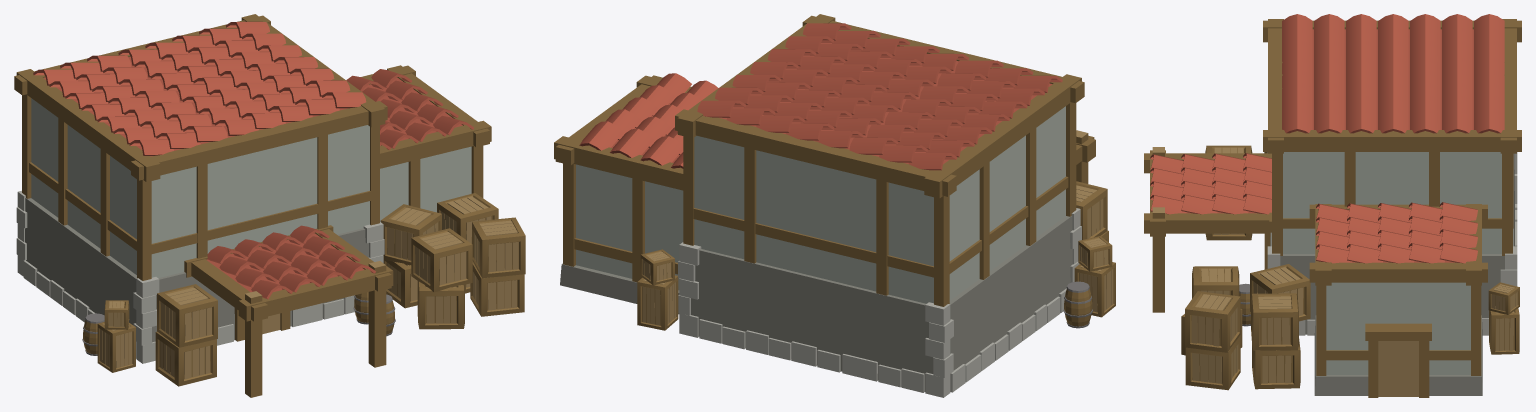
Rendered from Storage_SecondAge_Level3.glb.
3 renders of one model, left to right at view 1: azimuth 30°, elevation 25°; view 2: azimuth 150°, elevation 25°; view 3: azimuth 270°, elevation 25°, orthographic. The views are drawn at different scales.
Parts seen in each view (by area): view 1: Storage_SecondAge_Level3; view 2: Storage_SecondAge_Level3; view 3: Storage_SecondAge_Level3.
Part boxes in pixels (left/top/right/bottom): Storage_SecondAge_Level3: left=14, top=14, right=525, bottom=397; Storage_SecondAge_Level3: left=554, top=14, right=1115, bottom=397; Storage_SecondAge_Level3: left=1144, top=14, right=1521, bottom=397.
Size of the model in its own units: 1.81 by 0.899 by 1.43.
1 material, 1 textured.
